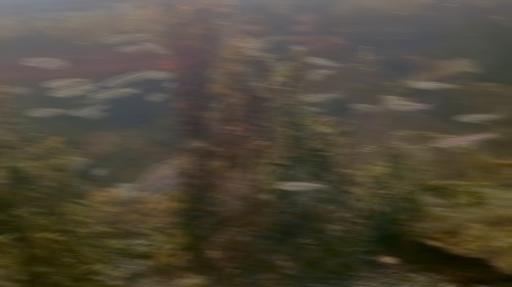Fish: (117, 159, 186, 202), (432, 132, 495, 147), (103, 70, 150, 86), (49, 82, 98, 97), (92, 87, 139, 98), (24, 57, 67, 69), (382, 100, 433, 110), (276, 182, 325, 191), (407, 81, 462, 89), (45, 78, 88, 88), (454, 113, 501, 122), (70, 105, 107, 116), (103, 34, 148, 43), (140, 42, 171, 55), (302, 93, 343, 102), (305, 57, 342, 66), (27, 108, 68, 116), (287, 22, 318, 32), (309, 68, 334, 80), (350, 104, 387, 111), (68, 157, 89, 169), (146, 71, 173, 79), (294, 13, 317, 22), (118, 45, 147, 52), (86, 111, 105, 120), (92, 167, 109, 176), (301, 107, 324, 113), (379, 95, 406, 100), (147, 94, 166, 101), (9, 87, 28, 94), (80, 98, 105, 103), (164, 81, 175, 88)
